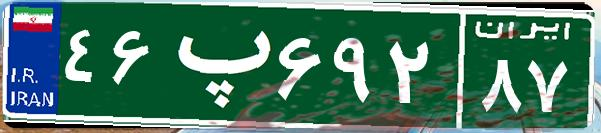2: (385, 28, 445, 110)
4: (57, 26, 110, 107)
6: (273, 28, 330, 110), (110, 28, 158, 105)
7: (525, 38, 570, 115)
8: (475, 38, 525, 113)
9: (330, 28, 385, 110)
پ: (158, 15, 273, 115)
